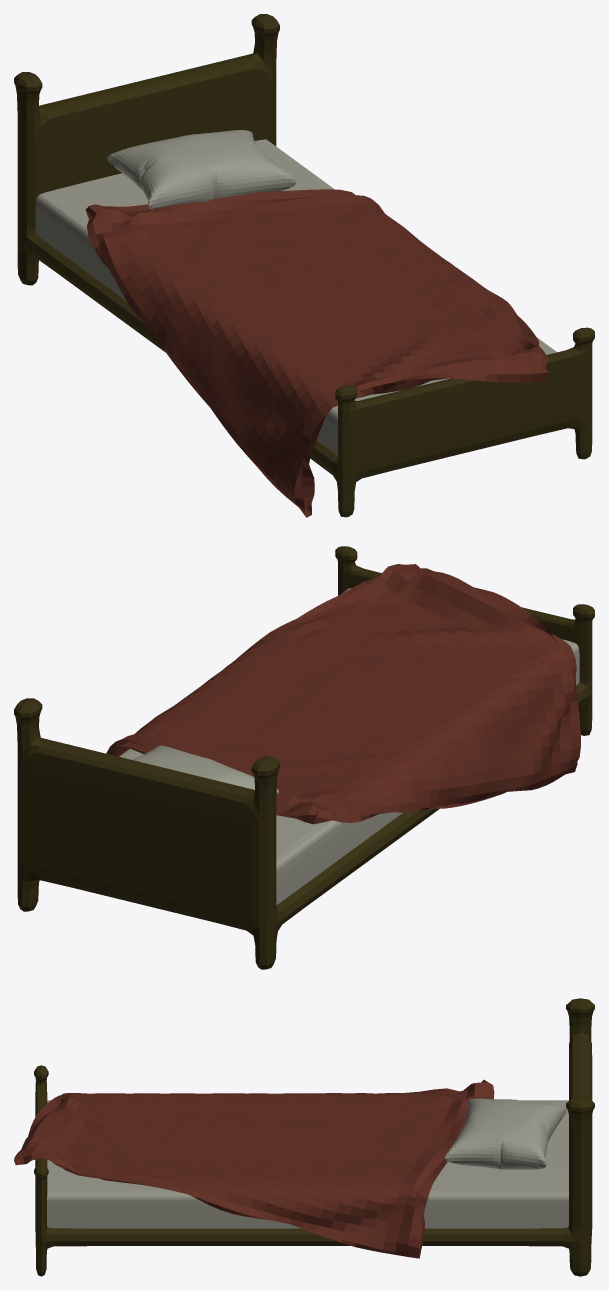
Rendered from pat.fbx.
3 renders of one model, top to bottom at view 1: azimuth 30°, elevation 25°; view 2: azimuth 150°, elevation 25°; view 3: azimuth 270°, elevation 25°, orthographic. The views are drawn at different scales.
Parts seen in each view (by area): view 1: Plane.012; view 2: Plane.012; view 3: Plane.012.
Boxes of the visible parts, <box> form: Plane.012: <box>14,14,594,517</box>; Plane.012: <box>14,546,594,969</box>; Plane.012: <box>14,998,594,1276</box>.
Bounding box in the file's own units: 141 × 102 × 282.
